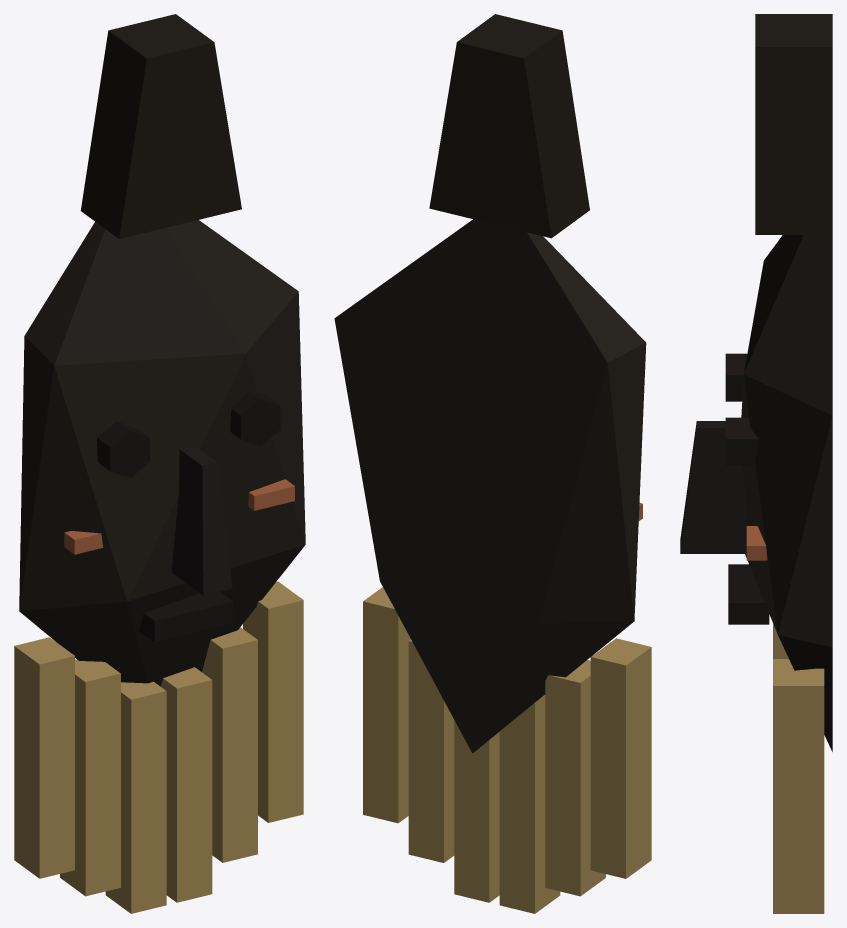
File: wall-mask-39.glb
3 renders of one model, left to right at view 1: azimuth 30°, elevation 25°; view 2: azimuth 150°, elevation 25°; view 3: azimuth 270°, elevation 25°, orthographic.
Parts seen in each view (by area): view 1: wall_mask_39; view 2: wall_mask_39; view 3: wall_mask_39.
Boxes of the visible parts, <box> form: wall_mask_39: <box>14,14,305,913</box>; wall_mask_39: <box>334,14,651,913</box>; wall_mask_39: <box>680,14,832,913</box>.
Bounding box in the file's own units: 0.1641 × 0.4645 × 0.0743.
